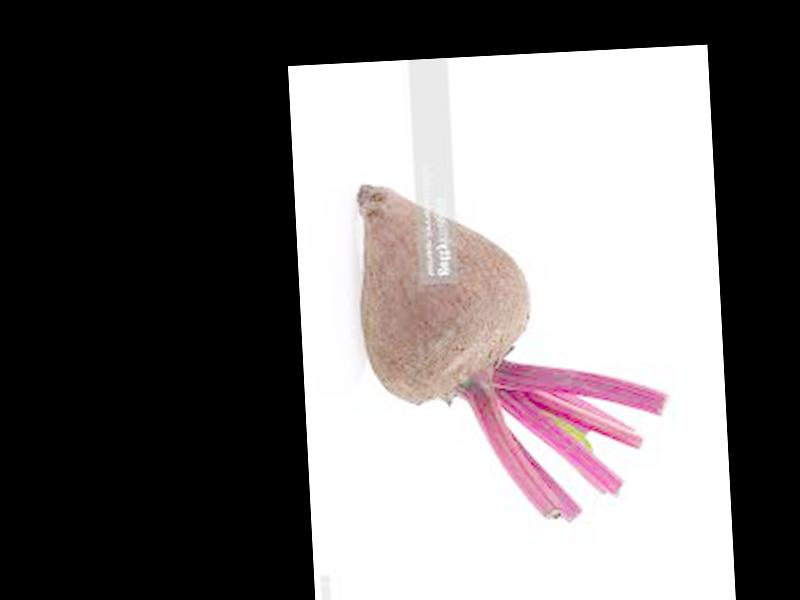Beet: (355, 169, 673, 532)
